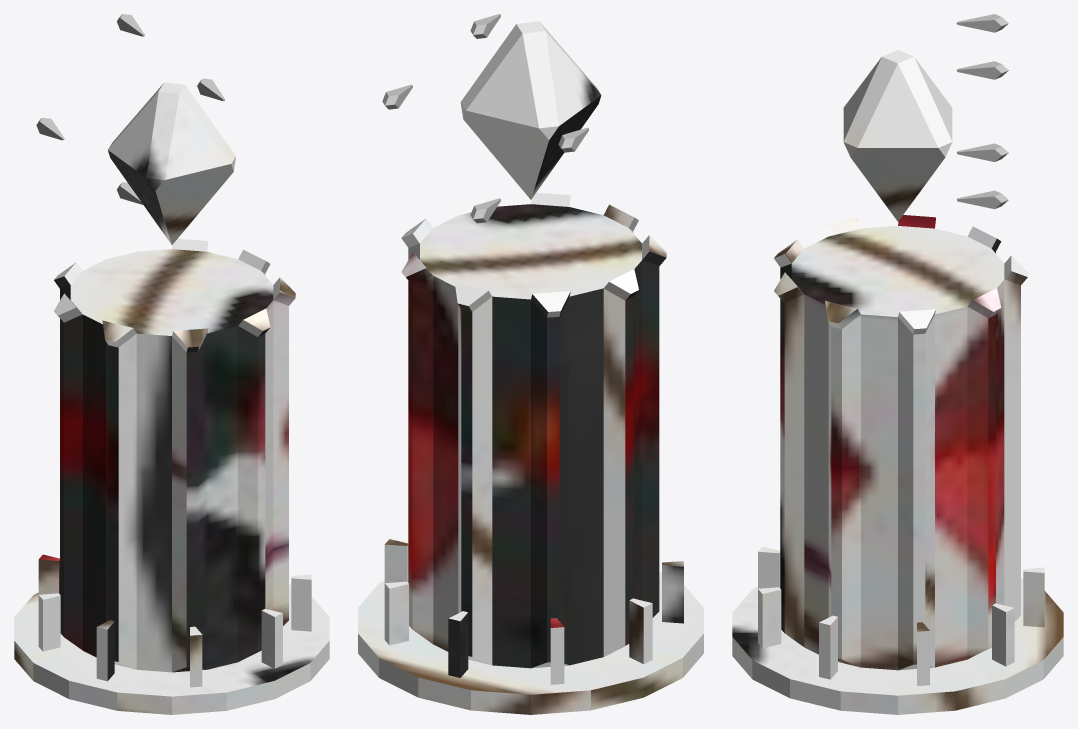
The model's file is FireTower.FBX.
3 views of the same model, side by side, from view 1: azimuth 30°, elevation 25°; view 2: azimuth 150°, elevation 25°; view 3: azimuth 270°, elevation 25° (orthographic). The views are drawn at different scales.
Visible parts, largest first — view 1: Cylinder001, Object; view 2: Cylinder001, Object; view 3: Cylinder001, Object.
Boxes of the visible parts, x1=… form: Cylinder001: x1=14, y1=82, x2=329, y2=714; Object: x1=36, y1=14, x2=224, y2=204; Cylinder001: x1=358, y1=21, x2=703, y2=714; Object: x1=382, y1=14, x2=588, y2=223; Cylinder001: x1=732, y1=50, x2=1063, y2=714; Object: x1=956, y1=14, x2=1008, y2=209.
Size of the model in its own units: 67.92 by 140 by 66.89.
